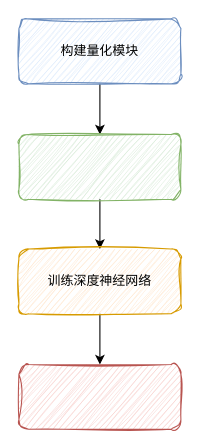
Image size: 200x448. Some labels were removed from this diagram. The box of each missing label's shape, as (x1, y1, x2, y2) in pixels:
完成模型推理: (18, 363, 181, 429)
构建深度神经网络并初始化: (18, 133, 181, 199)
